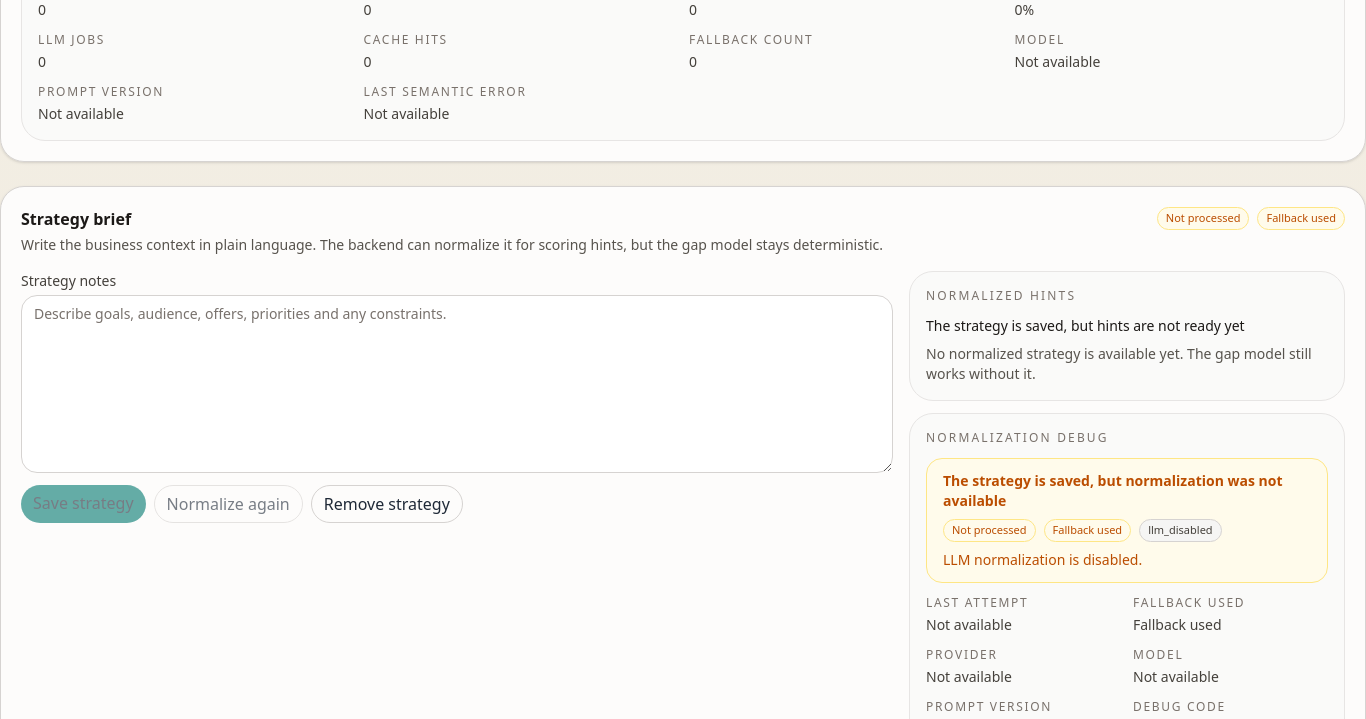
Test: SiteCompetitiveGapPage › saves strategy and creates competitor
This screenshot has width=1366, height=719.
(page scrolled)
Replace the text in the text box labelled "Strategy notes" with "Focus on local SEO growth." at (457, 384), box [21,295,893,473]
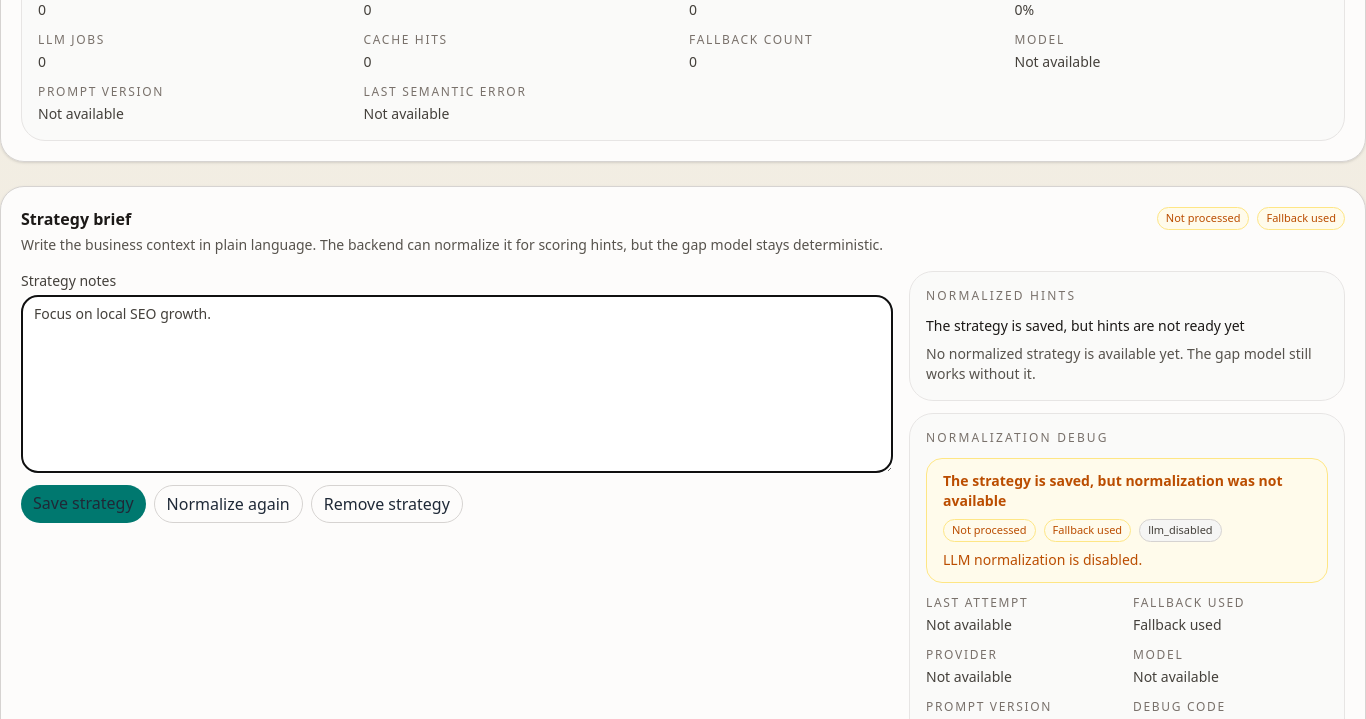
Click the button "Save strategy" at (83, 504), box [21,485,146,523]
(page scrolled)
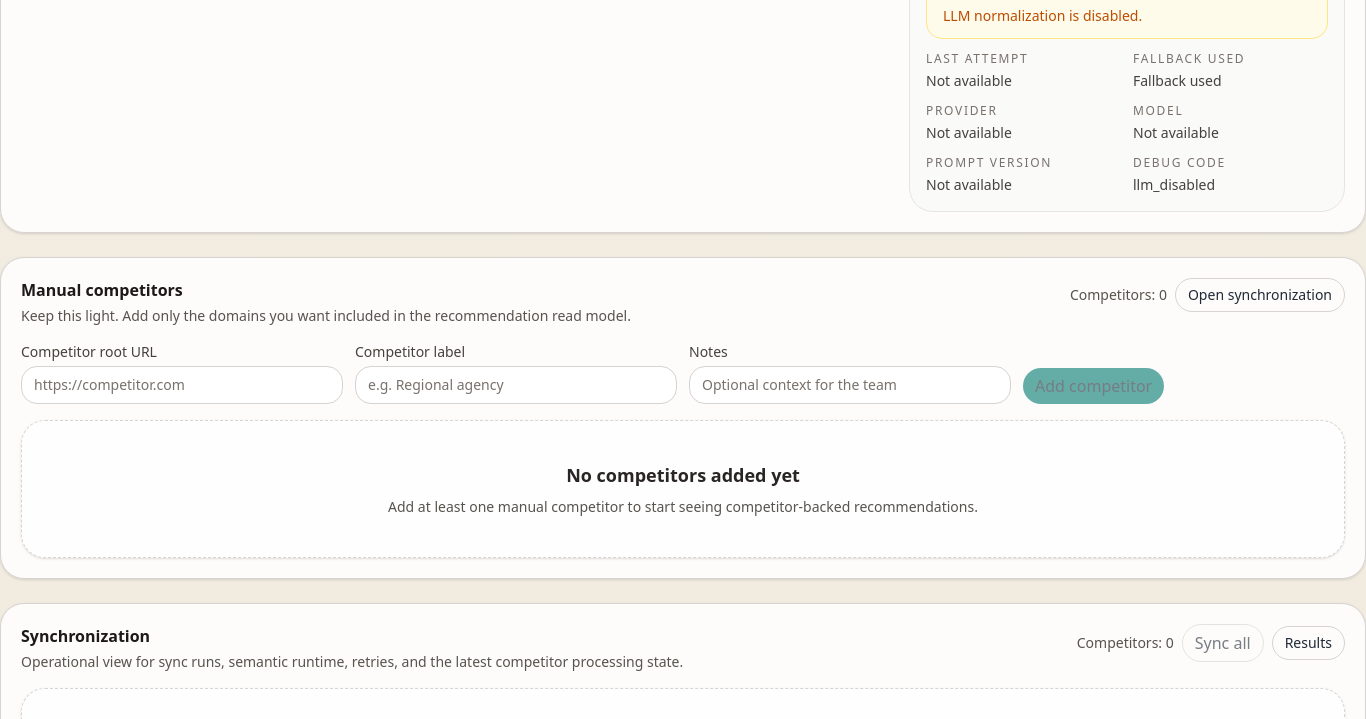
Type "https://competitor-c.com" into the field labelled "Competitor root URL" at (182, 384), box [21,366,343,404]
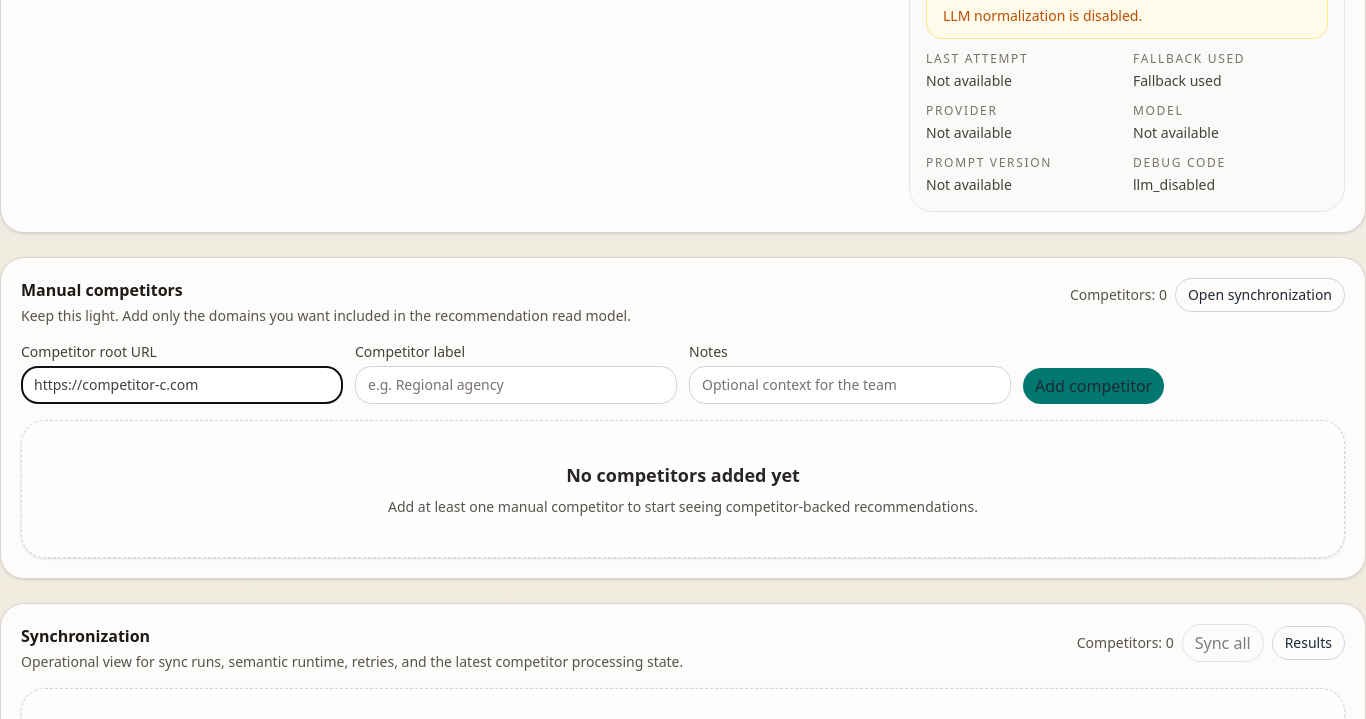
Type "Competitor C" into the field labelled "Competitor label" at (516, 384), box [355,366,677,404]
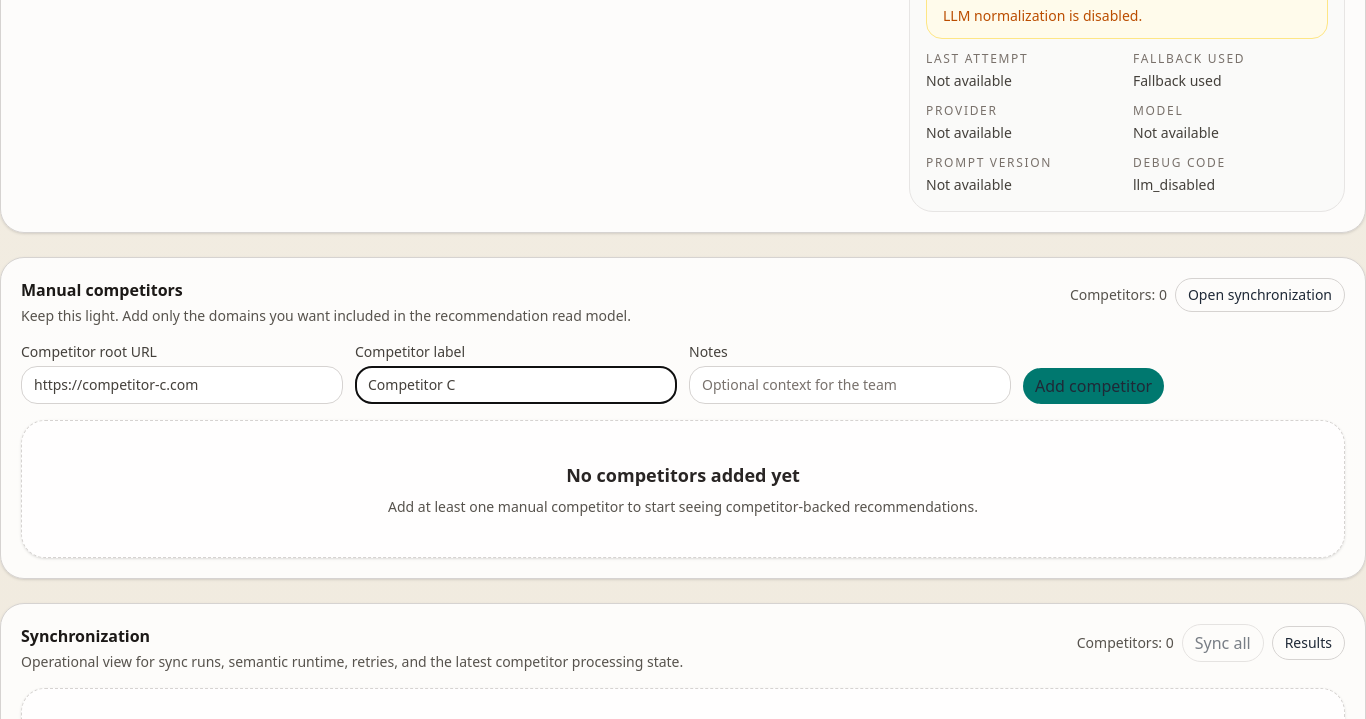
Click the button "Add competitor" at (1094, 386), box [1023,368,1164,404]
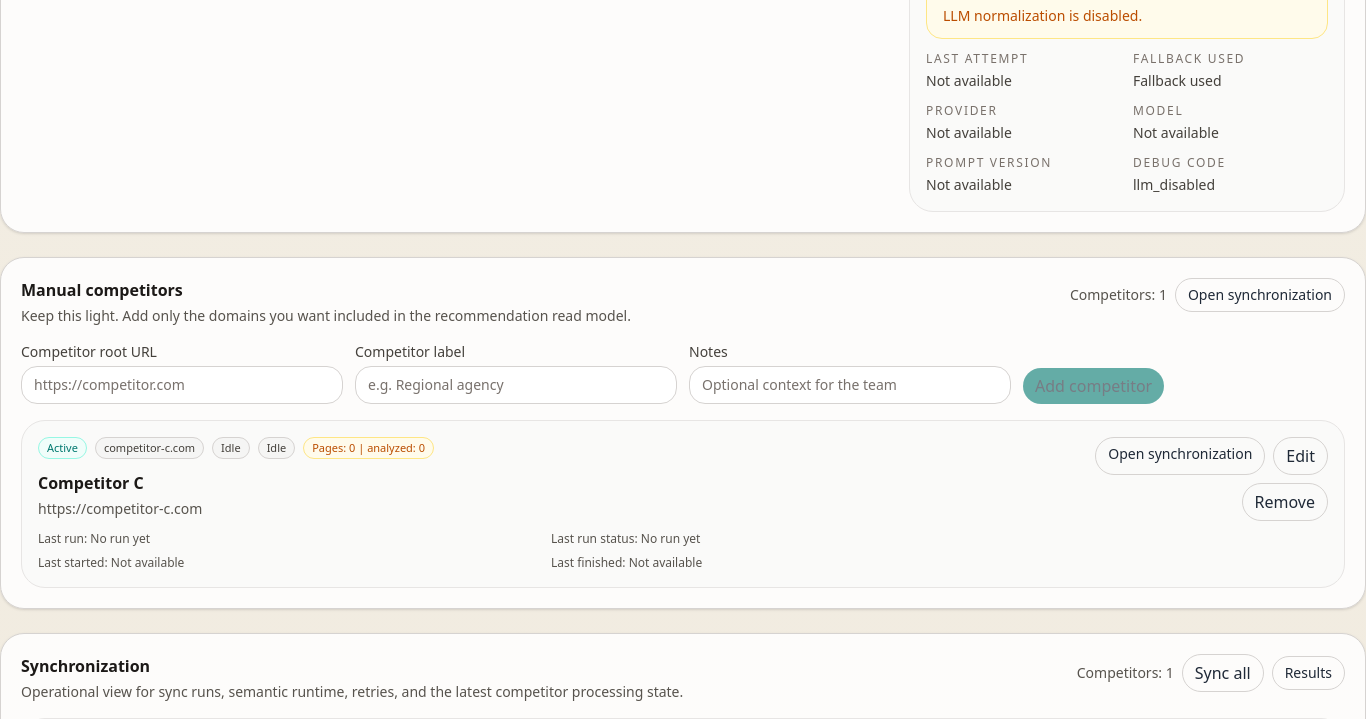
expect the text "Competitor C" is shown: met, box [38,472,144,494]
